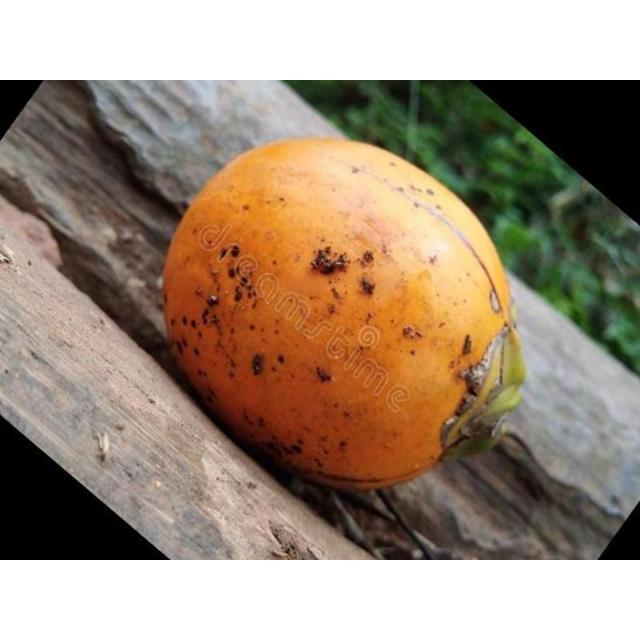good: (162, 138, 527, 494)
